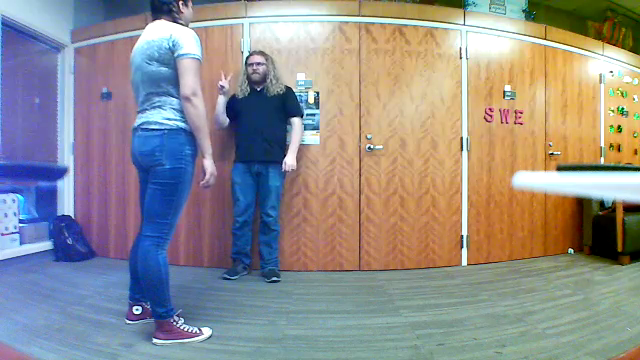peace: (216, 68, 235, 95)
